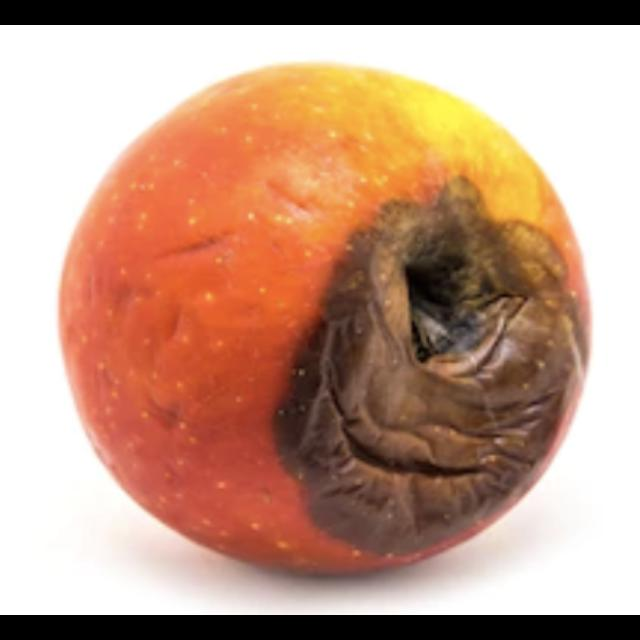Apel Tidak Segar: (55, 65, 585, 571)
